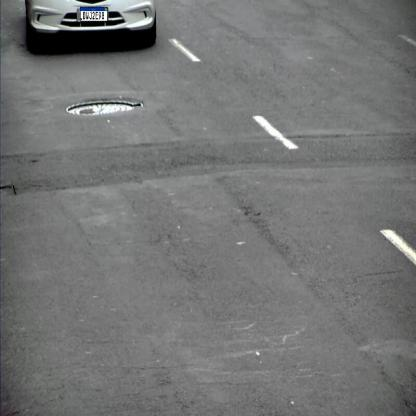PlacaM: (80, 7, 108, 21)
